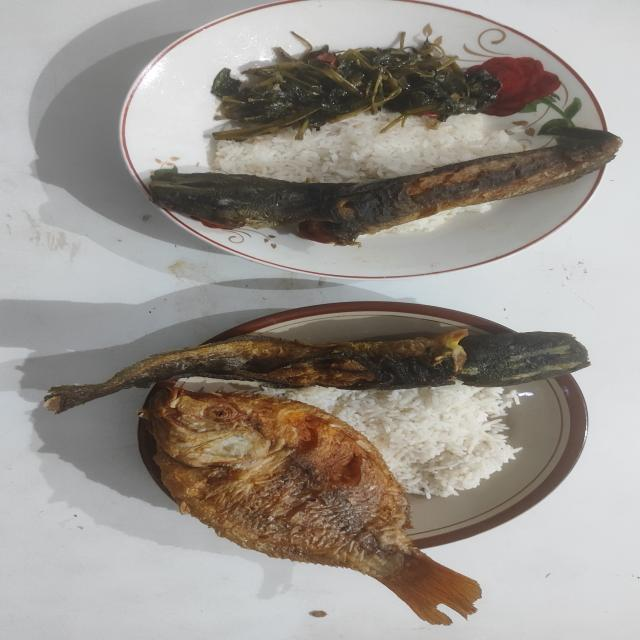ikan_mujair: (140, 382, 480, 624)
nasi_putih: (285, 383, 521, 499), (214, 111, 529, 182), (381, 203, 492, 234)
tumis_kangkung: (211, 33, 501, 141)
